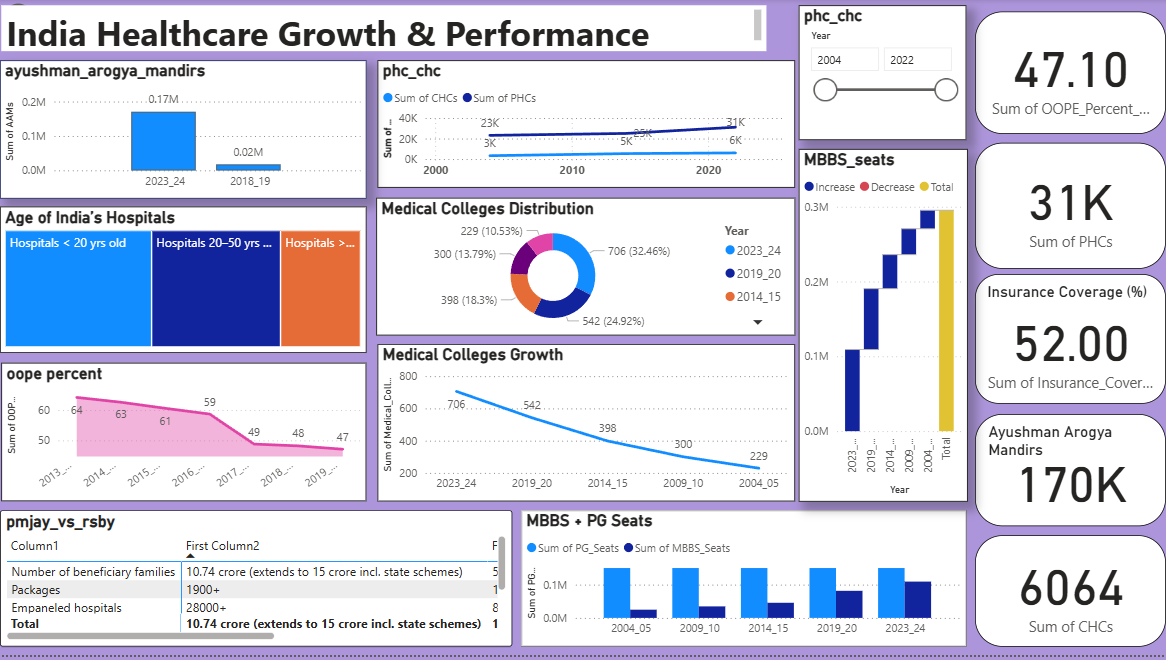

Layout of this report page (visuals, bound fields, positions):
{"tool":"powerbi","page":{"name":"Page 1","canvas":[1280,720],"ordinal":0},"visuals":[{"type":"actionButton","box":[0,0,100,40],"z":0},{"type":"card","fields":{"Values":["Sum(phc_chc.PHCs)"]},"box":[1070.3,157.8,209.9,138.6],"z":1000},{"type":"card","fields":{"Values":["Sum(phc_chc.CHCs)"]},"box":[1070.3,588.7,209.9,122.1],"z":2000},{"type":"card","title":"Ayushman Arogya Mandirs","fields":{"Values":["Sum(ayushman_arogya_mandirs.AAMs)"]},"box":[1070.3,455.6,209.9,123.5],"z":3000},{"type":"card","title":"Insurance Coverage (%)","fields":{"Values":["Sum(insurance_coverage.Insurance_Coverage_Percent)"]},"box":[1070.3,301.9,209.9,142.7],"z":4000},{"type":"card","fields":{"Values":["Sum(oope.OOPE_Percent_THE)"]},"box":[1070.3,13.7,209.9,134.5],"z":5000},{"type":"lineChart","title":"phc_chc","fields":{"Category":["phc_chc.Year"],"Y":["Sum(phc_chc.CHCs)","Sum(phc_chc.PHCs)"]},"box":[414.4,67.2,458.3,140],"z":6000},{"type":"lineChart","title":"Medical Colleges Growth","fields":{"Category":["medical_colleges.Year"],"Y":["Sum(medical_colleges.Medical_Colleges)"]},"box":[414.4,378.7,458.3,172.9],"z":7000},{"type":"lineClusteredColumnComboChart","title":"MBBS + PG Seats","fields":{"Category":["mbbs_seats.Year"],"Y":["Sum(pg_seats.PG_Seats)","Sum(mbbs_seats.MBBS_Seats)"]},"box":[572.2,561.2,488.5,149.6],"z":8000},{"type":"areaChart","title":"oope percent","fields":{"Category":["oope.Year"],"Y":["Sum(oope.OOPE_Percent_THE)"]},"box":[1.4,399.3,400.7,152.3],"z":9000},{"type":"clusteredColumnChart","title":"ayushman_arogya_mandirs","fields":{"Category":["ayushman_arogya_mandirs.Year"],"Y":["Sum(ayushman_arogya_mandirs.AAMs)"]},"box":[0,67.2,402.1,152.3],"z":10000},{"type":"treemap","title":"Age of India’s Hospitals","fields":{"Values":["Sum(Table (4).Count)"],"Group":["Table (4).Category"]},"box":[0,227.8,402.1,160.5],"z":11000},{"type":"pivotTable","title":"pmjay_vs_rsby","fields":{"Rows":["pmjay_vs_rsby.Column1"],"Values":["Min(pmjay_vs_rsby.Column2)","Min(pmjay_vs_rsby.Column3)"]},"box":[0,561.2,562.6,149.6],"z":12000},{"type":"donutChart","title":"Medical Colleges Distribution","fields":{"Category":["medical_colleges.Year"],"Y":["Sum(medical_colleges.Medical_Colleges)"]},"box":[413,218.2,459.7,150.9],"z":13000},{"type":"textbox","box":[1.4,6.9,839.8,50.8],"z":14000},{"type":"slicer","title":"phc_chc","fields":{"Values":["phc_chc.Year"]},"box":[876.8,6.9,183.9,148.2],"z":15000},{"type":"waterfallChart","title":"MBBS_seats","fields":{"Category":["mbbs_seats.Year"],"Y":["Sum(mbbs_seats.MBBS_Seats)"]},"box":[876.8,164.7,185.2,387],"z":16000}]}

Visuals, with their boxes in screenshot pixels (x1, y1, x2, y2), scaled from the page's 1280x720 canvas onto the 1166x660 screenshot:
actionButton: crop(0, 0, 91, 37)
card - Sum(phc_chc.PHCs): crop(975, 145, 1165, 272)
card - Sum(phc_chc.CHCs): crop(975, 540, 1165, 652)
"Ayushman Arogya Mandirs" card: crop(975, 418, 1165, 531)
"Insurance Coverage (%)" card: crop(975, 277, 1165, 408)
card - Sum(oope.OOPE_Percent_THE): crop(975, 13, 1165, 136)
"phc_chc" lineChart: crop(377, 62, 795, 190)
"Medical Colleges Growth" lineChart: crop(377, 347, 795, 506)
"MBBS + PG Seats" lineClusteredColumnComboChart: crop(521, 514, 966, 652)
"oope percent" areaChart: crop(1, 366, 366, 506)
"ayushman_arogya_mandirs" clusteredColumnChart: crop(0, 62, 366, 201)
"Age of India’s Hospitals" treemap: crop(0, 209, 366, 356)
"pmjay_vs_rsby" pivotTable: crop(0, 514, 512, 652)
"Medical Colleges Distribution" donutChart: crop(376, 200, 795, 338)
textbox: crop(1, 6, 766, 53)
"phc_chc" slicer: crop(799, 6, 966, 142)
"MBBS_seats" waterfallChart: crop(799, 151, 967, 506)
